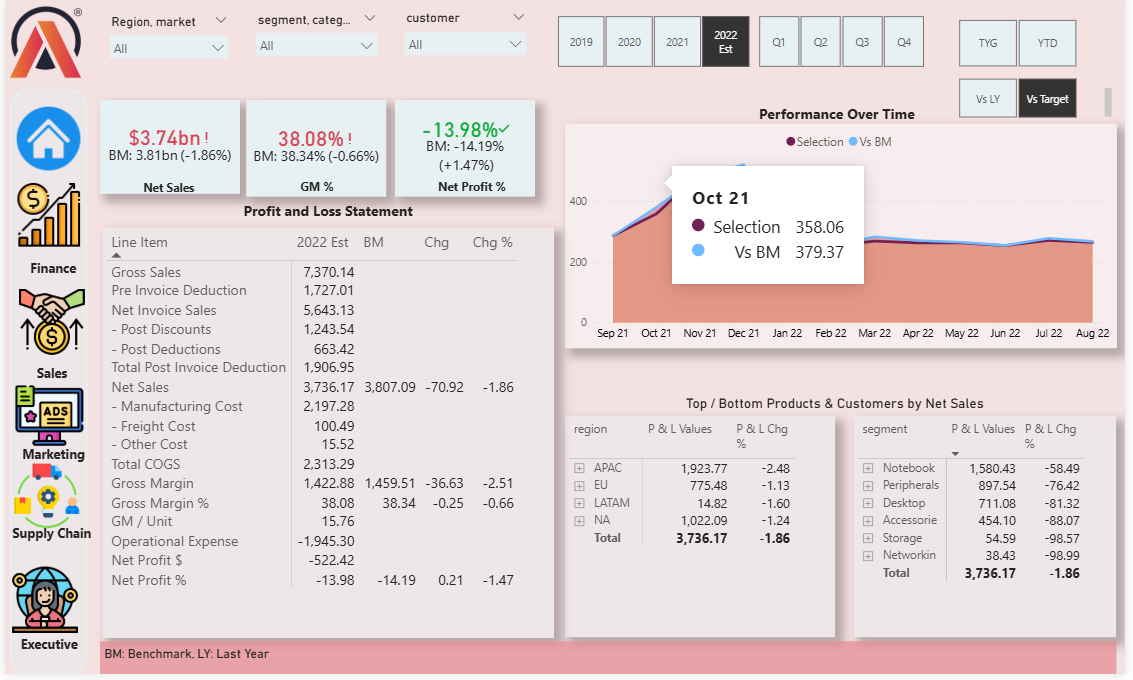

Layout of this report page (visuals, bound fields, positions):
{"tool":"powerbi","page":{"name":"Finance View","canvas":[1280,771],"ordinal":1},"visuals":[{"type":"pivotTable","fields":{"Rows":["P & L Rows.Line Item"],"Columns":["P & L Columns.Col Header"],"Values":["Key Measure.P & L Final Value"]},"box":[111.4,260,515.7,468.6],"z":0},{"type":"slicer","fields":{"Values":["fiscal_year.fy_desc"]},"box":[605.7,11.4,268.6,71.4],"z":1000},{"type":"slicer","fields":{"Values":["dim_date.quarters"]},"box":[835.7,11.4,238.6,71.4],"z":2000},{"type":"slicer","fields":{"Values":["dim_date.ytd_ytg"]},"box":[1064.3,287.1,20,40],"z":3000},{"type":"slicer","fields":{"Values":["dim_date.ytd_ytg"]},"box":[1064.3,15.7,184.3,67.1],"z":4000},{"type":"areaChart","fields":{"Category":["dim_date.date"],"Y":["Key Measure.P & L Values","Key Measure.P & L BM"]},"box":[640,141.4,630,257.1],"z":5000},{"type":"pivotTable","fields":{"Rows":["dim_market.region","dim_customer.customer"],"Values":["Key Measure.P & L Values","Key Measure.P & L YoY Chg %"]},"box":[640,475.7,308.6,252.9],"z":6000},{"type":"pivotTable","fields":{"Rows":["dim_product.segment","dim_product.category","dim_product.product"],"Values":["Key Measure.P & L Values","Key Measure.P & L YoY Chg %"]},"box":[970,475.7,300,252.9],"z":7000},{"type":"card","fields":{"Values":["Key Measure.Top / Bottom N title"]},"box":[627.1,428.6,642.9,65.7],"z":8000},{"type":"textbox","box":[111.4,224.3,515.7,35.7],"z":9000},{"type":"slicer","fields":{"Values":["dim_market.region","dim_market.market"]},"box":[108.6,11.4,157.1,62.9],"z":10000},{"type":"slicer","fields":{"Values":["dim_customer.customer"]},"box":[445.7,7.1,160,67.1],"z":11000},{"type":"slicer","fields":{"Values":["dim_product.segment","dim_product.category","dim_product.product"]},"box":[275.7,8.6,160,67.1],"z":12000},{"type":"kpi","title":"NS$ and NS$ by fiscal_year","fields":{"Indicator":["Key Measure.NS$"],"TrendLine":["dim_date.fiscal_year"],"Goal":["Key Measure.NS BM $"]},"box":[108.6,114.3,160,107.1],"z":13000},{"type":"kpi","fields":{"Indicator":["Key Measure.GM %"],"TrendLine":["dim_date.fiscal_year"],"Goal":["Key Measure.GM % BM"]},"box":[275.7,114.3,160,110],"z":14000},{"type":"textbox","box":[108.6,182.9,157.1,54.3],"z":15000},{"type":"kpi","title":"NS$ and NS$ by fiscal_year","fields":{"TrendLine":["dim_date.fiscal_year"],"Indicator":["Key Measure.Net Profit %"],"Goal":["Key Measure.NP % BM"]},"box":[445.7,114.3,160,110],"z":16000},{"type":"textbox","box":[275.7,181.4,161.4,55.7],"z":17000},{"type":"textbox","box":[445.7,181.4,175.7,55.7],"z":18000},{"type":"image","box":[0,0,95.7,95.7],"z":19000},{"type":"shape","box":[5.7,101.4,88.6,670],"z":20000},{"type":"image","box":[8.6,204.3,84.3,82.9],"z":21000},{"type":"image","box":[10,324.3,87.1,87.1],"z":22000},{"type":"image","box":[7.1,428.6,87.1,92.9],"z":23000},{"type":"image","box":[5.7,521.4,84.3,90],"z":24000},{"type":"image","box":[1,641,89,88],"z":25000},{"type":"image","box":[8.6,117.1,82.9,82.9],"z":26000},{"type":"textbox","box":[640,95.7,630,45.7],"z":27000},{"type":"slicer","fields":{"Values":["Set BM.Benchmarks"]},"box":[1064.3,82.9,184.3,58.6],"z":28000},{"type":"cardVisual","fields":{"Data":["Key Measure.BM Message"]},"box":[111.4,70,497.1,42.9],"z":29000},{"type":"textbox","box":[108.6,732.9,1161.4,38.6],"z":30000},{"type":"textbox","box":[1.4,291.4,111.4,35.7],"z":31000},{"type":"textbox","box":[0,411.4,111.4,34.3],"z":32000},{"type":"textbox","box":[0,504,111,35],"z":33000},{"type":"textbox","box":[0,594,111,48],"z":34000},{"type":"textbox","box":[0,721,109,50],"z":35000}]}

Visuals, with their boxes on the page's 1280x771 design canvas (x1, y1, x2, y2). These are canvas units, not pixel positions in the 1133x680 screenshot, which may show the page scaled, cropped or inside an application window:
pivotTable - P & L Rows.Line Item x P & L Columns.Col Header: [111,260,627,729]
slicer - fiscal_year.fy_desc: [606,11,874,83]
slicer - dim_date.quarters: [836,11,1074,83]
slicer - dim_date.ytd_ytg: [1064,287,1084,327]
slicer - dim_date.ytd_ytg: [1064,16,1249,83]
areaChart - dim_date.date x Key Measure.P & L Values: [640,141,1270,398]
pivotTable - dim_market.region x dim_customer.customer: [640,476,949,729]
pivotTable - dim_product.segment x dim_product.category: [970,476,1270,729]
card - Key Measure.Top / Bottom N title: [627,429,1270,494]
textbox: [111,224,627,260]
slicer - dim_market.region x dim_market.market: [109,11,266,74]
slicer - dim_customer.customer: [446,7,606,74]
slicer - dim_product.segment x dim_product.category: [276,9,436,76]
"NS$ and NS$ by fiscal_year" kpi: [109,114,269,221]
kpi - Key Measure.GM % x dim_date.fiscal_year: [276,114,436,224]
textbox: [109,183,266,237]
"NS$ and NS$ by fiscal_year" kpi: [446,114,606,224]
textbox: [276,181,437,237]
textbox: [446,181,621,237]
image: [0,0,96,96]
shape: [6,101,94,771]
image: [9,204,93,287]
image: [10,324,97,411]
image: [7,429,94,522]
image: [6,521,90,611]
image: [1,641,90,729]
image: [9,117,92,200]
textbox: [640,96,1270,141]
slicer - Set BM.Benchmarks: [1064,83,1249,142]
cardVisual - Key Measure.BM Message: [111,70,608,113]
textbox: [109,733,1270,772]
textbox: [1,291,113,327]
textbox: [0,411,111,446]
textbox: [0,504,111,539]
textbox: [0,594,111,642]
textbox: [0,721,109,771]
